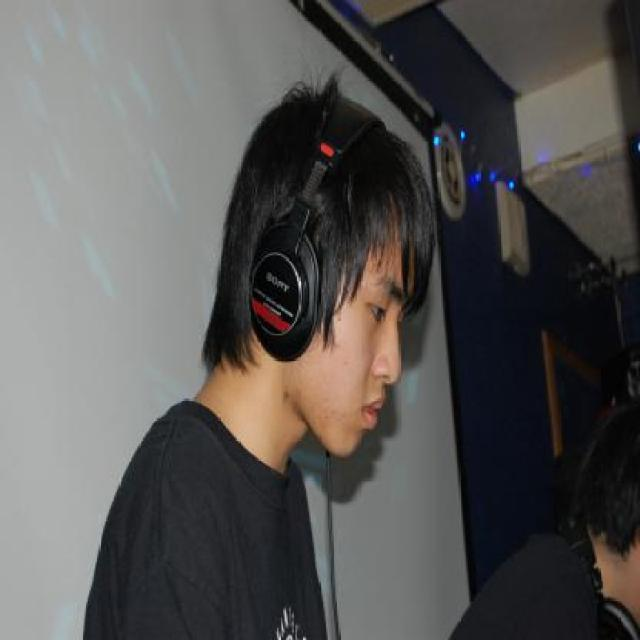earphone: (258, 53, 357, 377)
